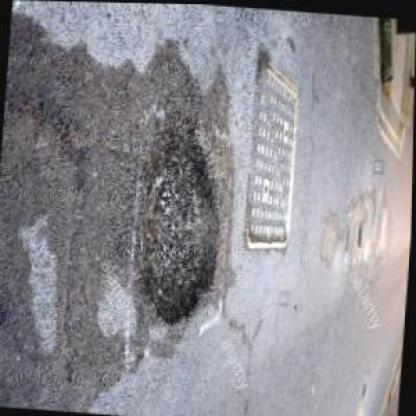pothole: (128, 103, 233, 327), (356, 215, 364, 251)
